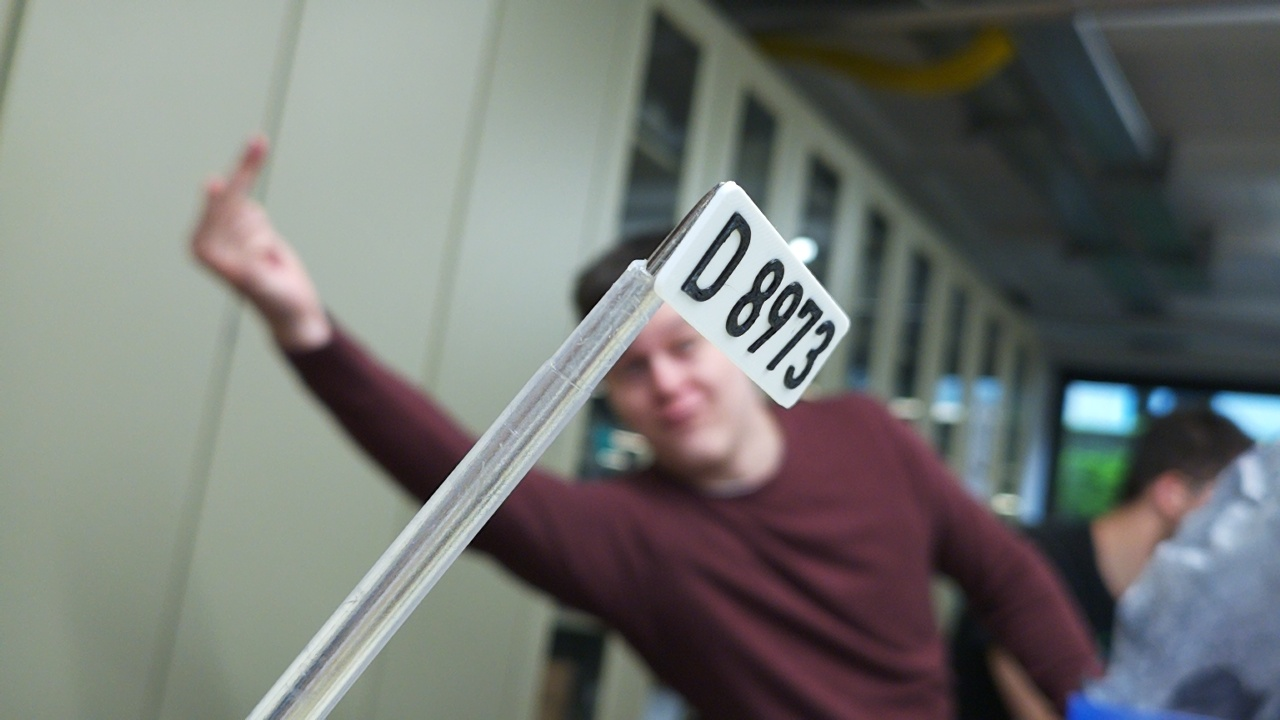license_plate: (650, 176, 853, 412)
